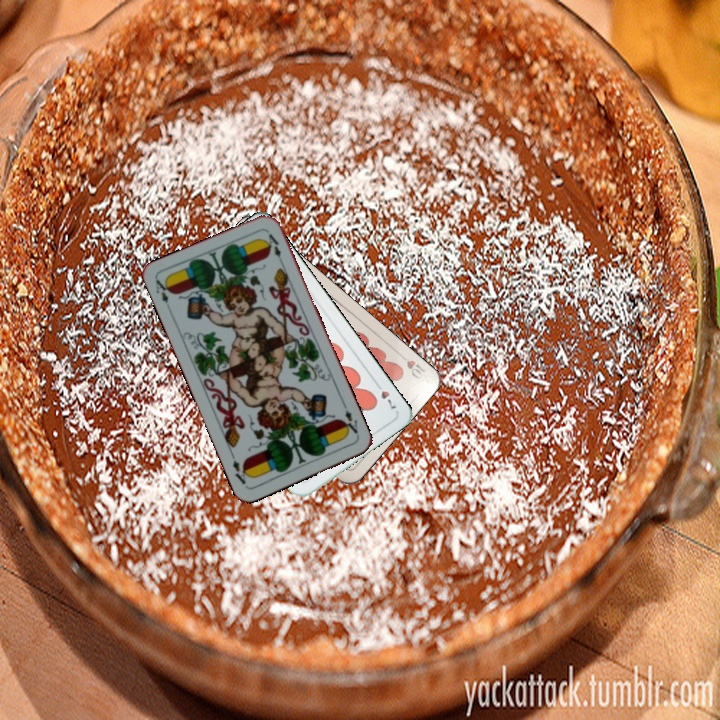EA: (151, 275, 174, 314), (338, 401, 361, 437)
H10: (394, 349, 428, 382)
H7: (371, 378, 399, 413)
